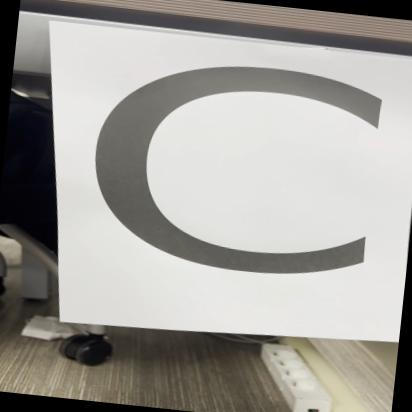seat: (26, 21, 412, 350)
